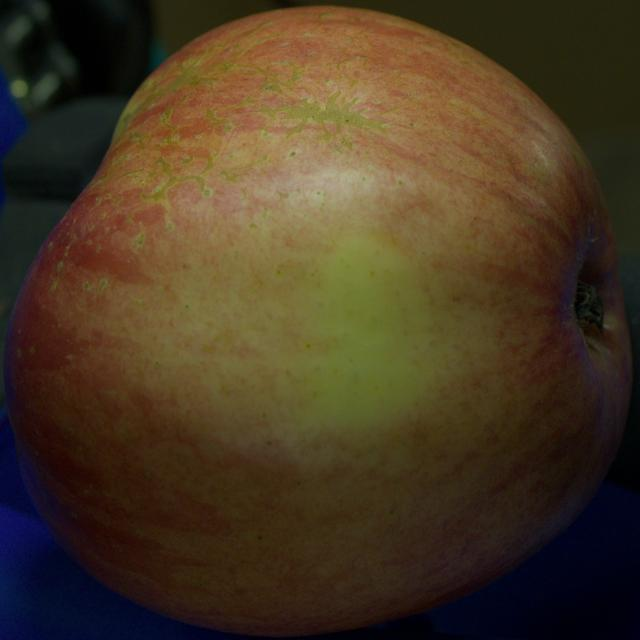apple: (4, 7, 632, 634)
scratch: (277, 92, 383, 132)
